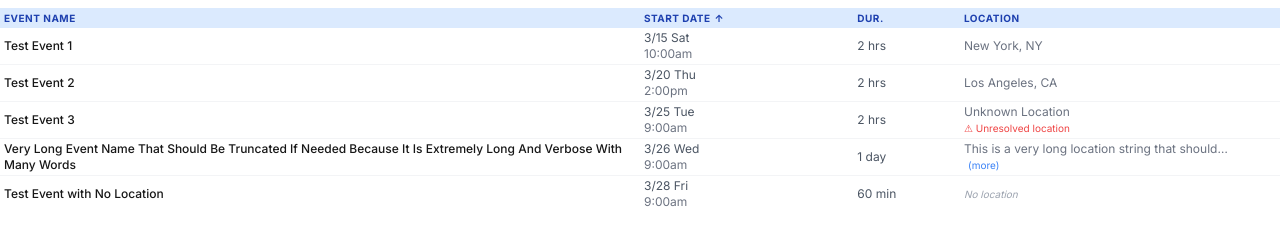
EventList › sorts events by duration when duration header is clicked
// Click on the duration column header (might show as "Dur." in small screens)
Click the text "Dur." at [871, 18], box [857,12,884,24]
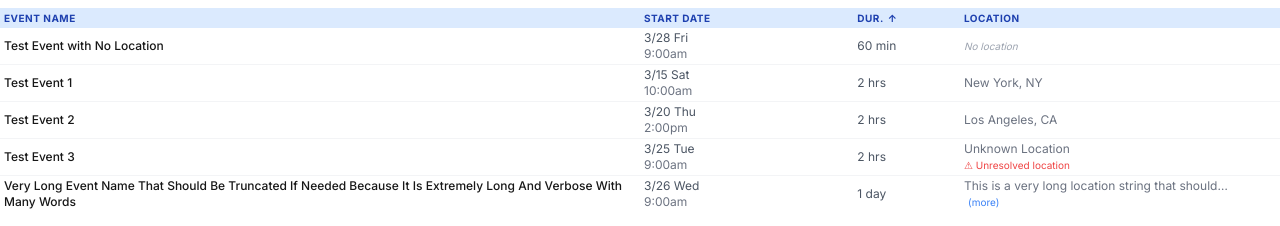
Check: the 6th row shows "Very Long Event Name", box [4,178,622,209]
// Click again to sort in descending order
Click the text "Dur." at [871, 18], box [857,12,884,24]
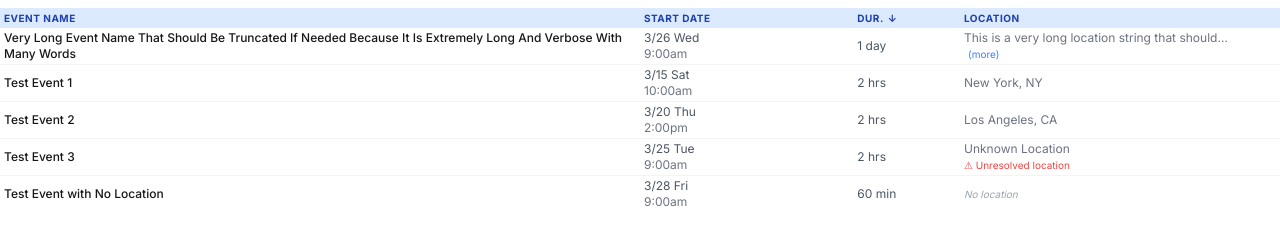
Check: the 2nd row shows "Very Long Event Name", box [4,30,622,61]
